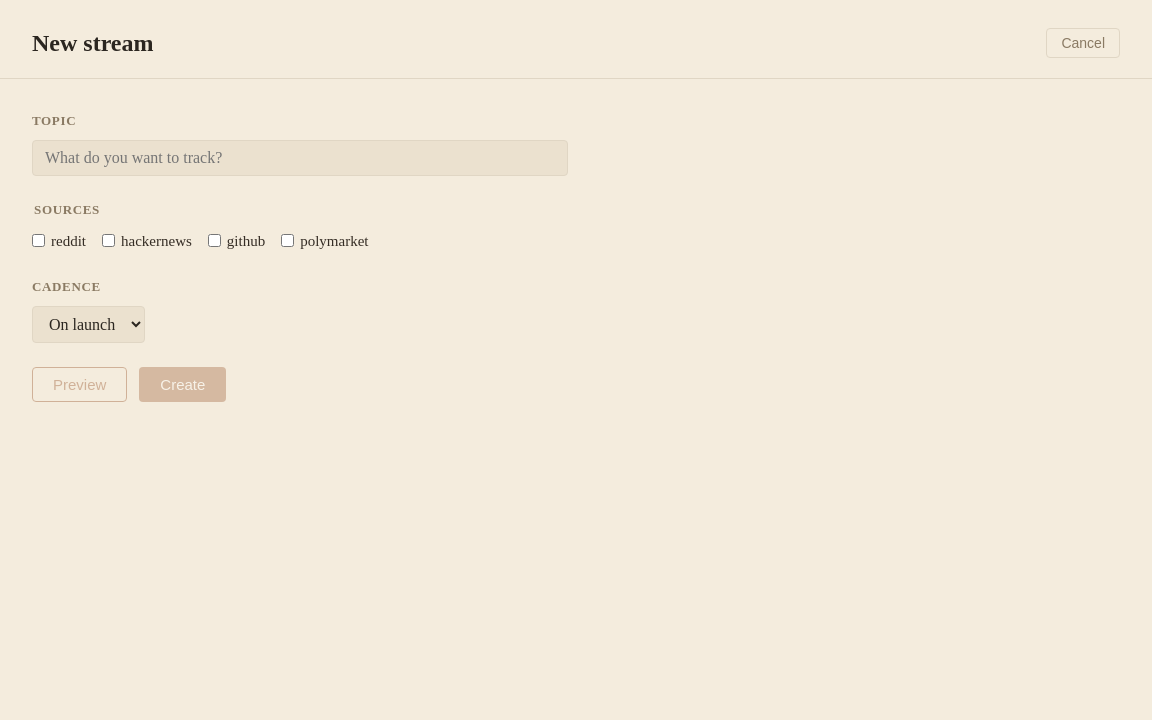
Scenario: agentState:not_logged_in — Preview shows AgentNotice with login guidance
In the field labelled "Topic": coordinates (300, 158) [32,140,568,176], type "ai agents"
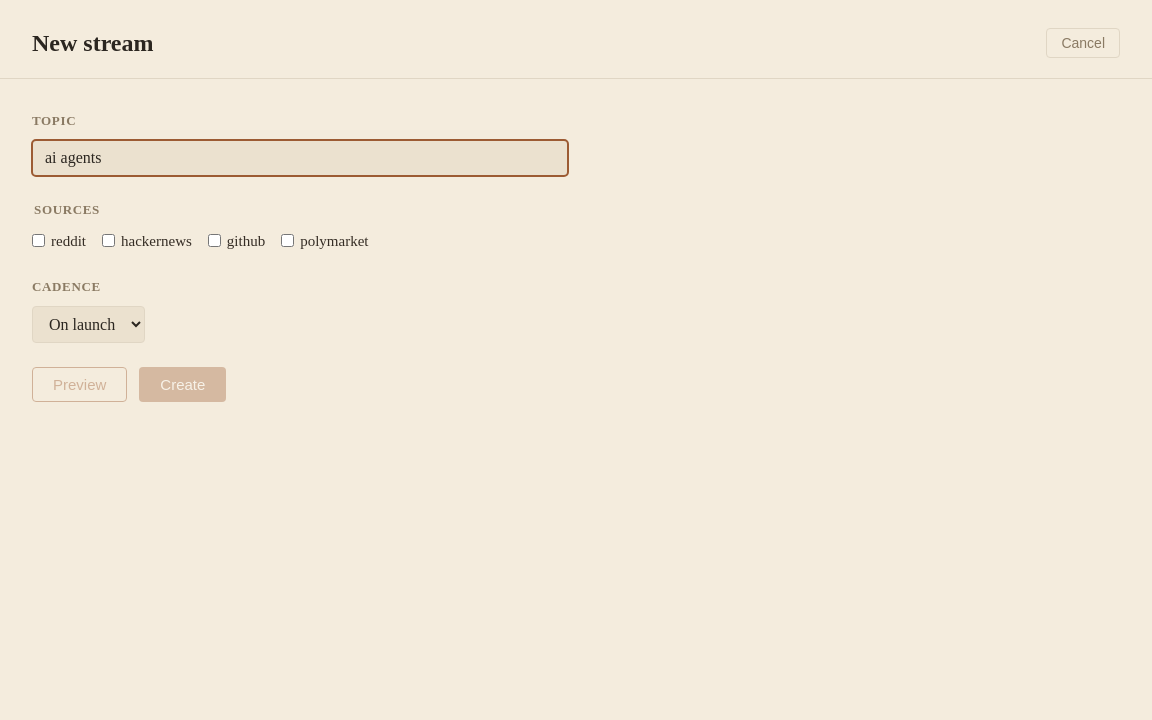
Click the checkbox labelled "hackernews": coordinates (108, 241) [102,234,115,248]
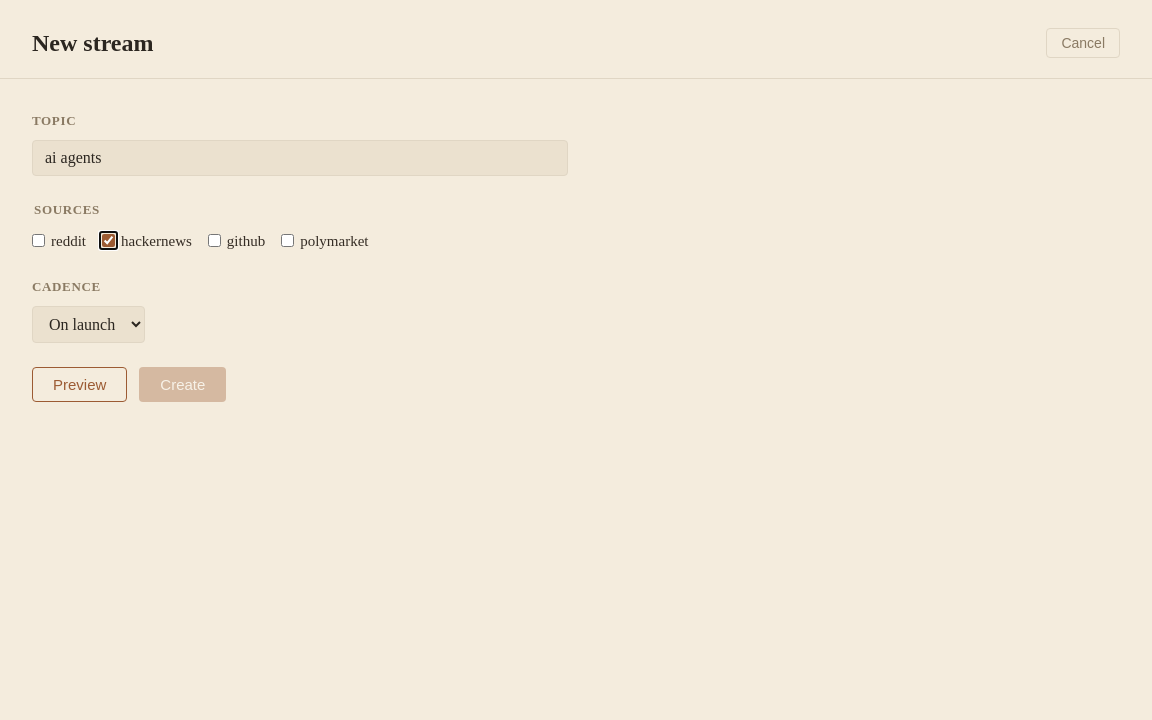
Click the button "Preview": coordinates (80, 384) [32,367,127,402]
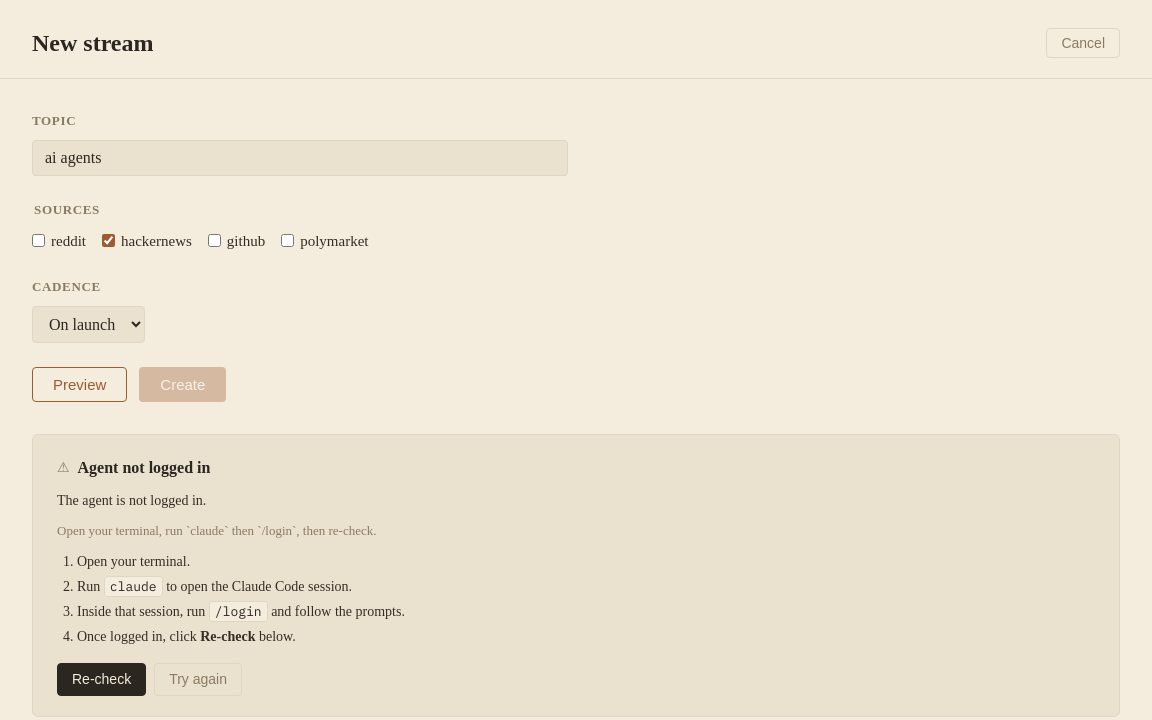
Expected: the text "Agent not logged in" is shown, [78,455,210,480]
Expected: the text "/login" is shown, [57,523,376,538]
Expected: the button "Re-check" is shown, [57,663,146,696]
